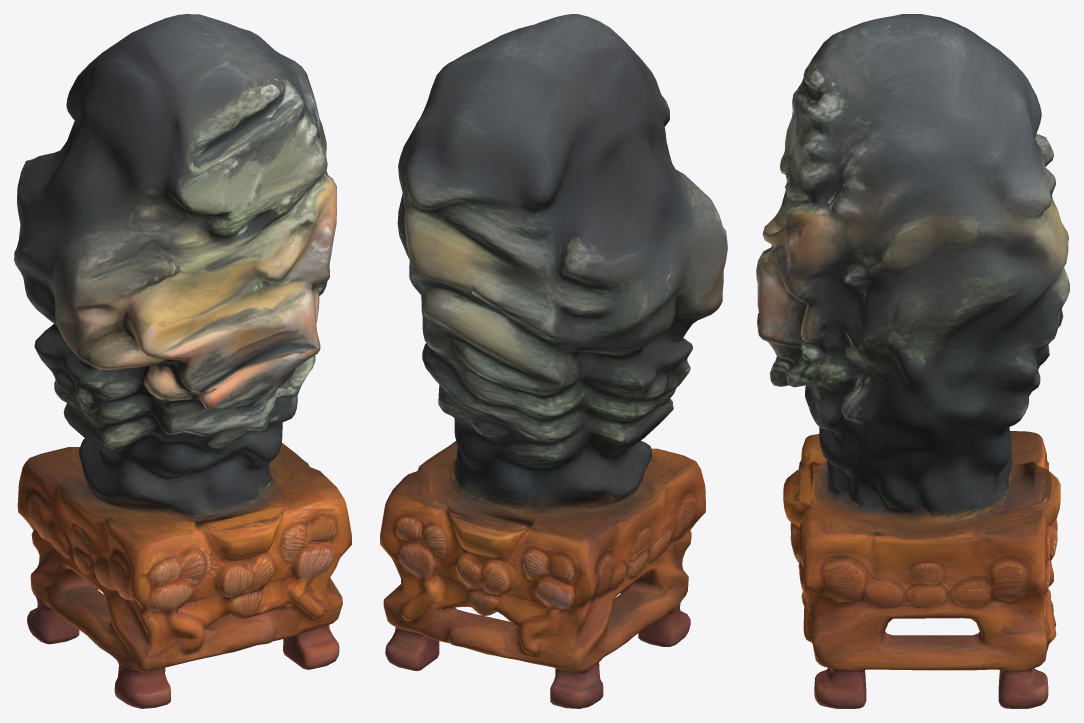
Rendered from artifact-fast.glb.
3 renders of one model, left to right at view 1: azimuth 30°, elevation 25°; view 2: azimuth 150°, elevation 25°; view 3: azimuth 270°, elevation 25°, orthographic. The views are drawn at different scales.
Visible parts, largest first — view 1: mesh_input; view 2: mesh_input; view 3: mesh_input.
Boxes of the visible parts, x1,y1,x2,y2 form: mesh_input: (14, 14, 351, 708); mesh_input: (380, 14, 727, 708); mesh_input: (756, 14, 1069, 708).
Bounding box in the file's own units: 0.8748 × 1.9 × 0.8514.
1 material, 1 textured.
